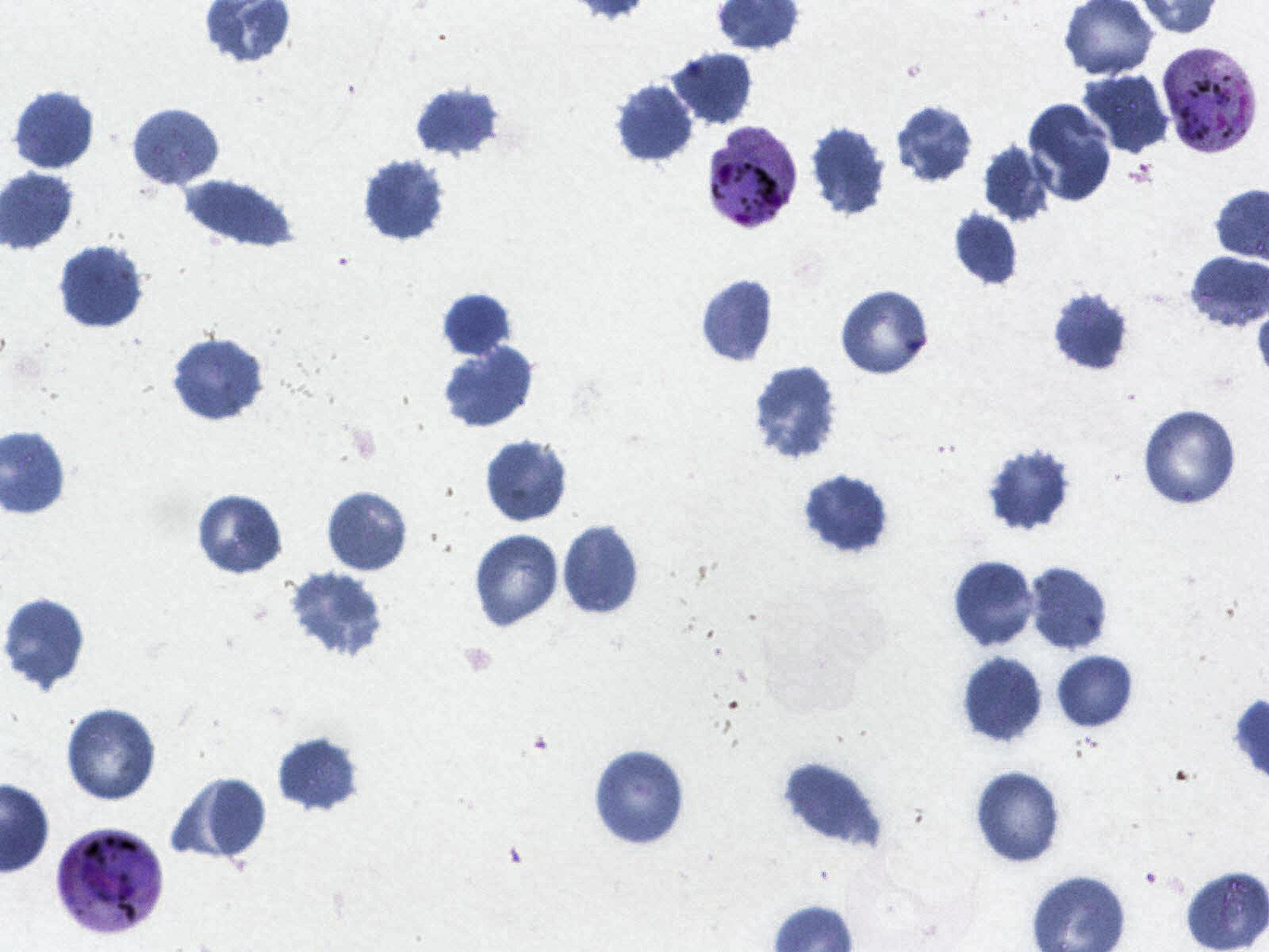Infected: (58, 828, 159, 932), (1164, 44, 1254, 153), (709, 130, 795, 228)
Uninfected: (1144, 408, 1240, 509), (594, 748, 685, 849), (66, 705, 158, 804), (1026, 101, 1112, 203), (976, 768, 1062, 867), (840, 287, 933, 378), (474, 531, 561, 627), (172, 336, 265, 423), (952, 557, 1037, 652), (754, 364, 838, 460), (291, 570, 383, 656), (784, 760, 876, 846), (171, 776, 268, 857), (130, 106, 220, 192), (195, 493, 286, 577), (962, 653, 1045, 744), (444, 345, 535, 428), (3, 597, 85, 689), (1083, 71, 1168, 159), (184, 177, 286, 250), (59, 243, 144, 330), (562, 524, 639, 618), (484, 438, 567, 524), (327, 489, 409, 574), (1029, 564, 1108, 652), (803, 473, 888, 554), (990, 447, 1071, 532), (365, 156, 445, 241), (701, 276, 775, 367), (812, 125, 886, 216), (1056, 651, 1137, 731), (17, 92, 97, 173), (618, 82, 696, 165), (892, 105, 976, 182), (413, 83, 501, 156), (675, 48, 754, 129), (1054, 290, 1129, 372), (280, 737, 358, 814), (951, 207, 1021, 288), (983, 145, 1051, 221), (441, 292, 511, 359)
